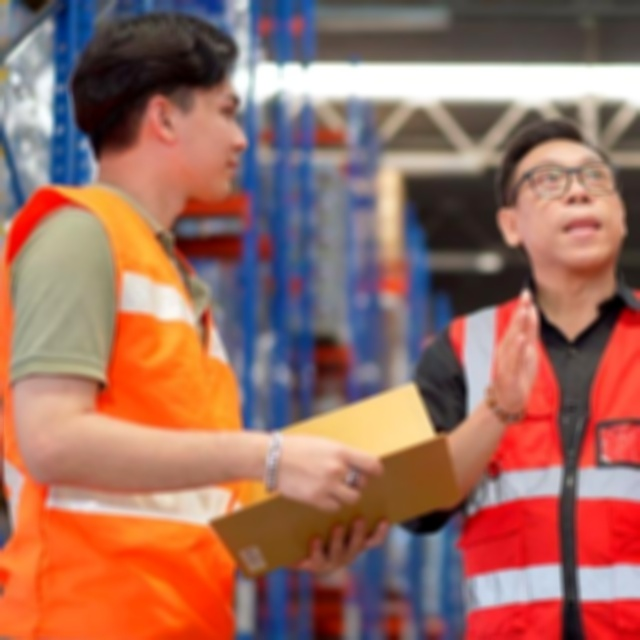Con_Chaleco: (4, 182, 240, 640), (436, 291, 640, 640)
Sin_Casco_Mascarrilla: (70, 14, 246, 196), (499, 119, 626, 278)
